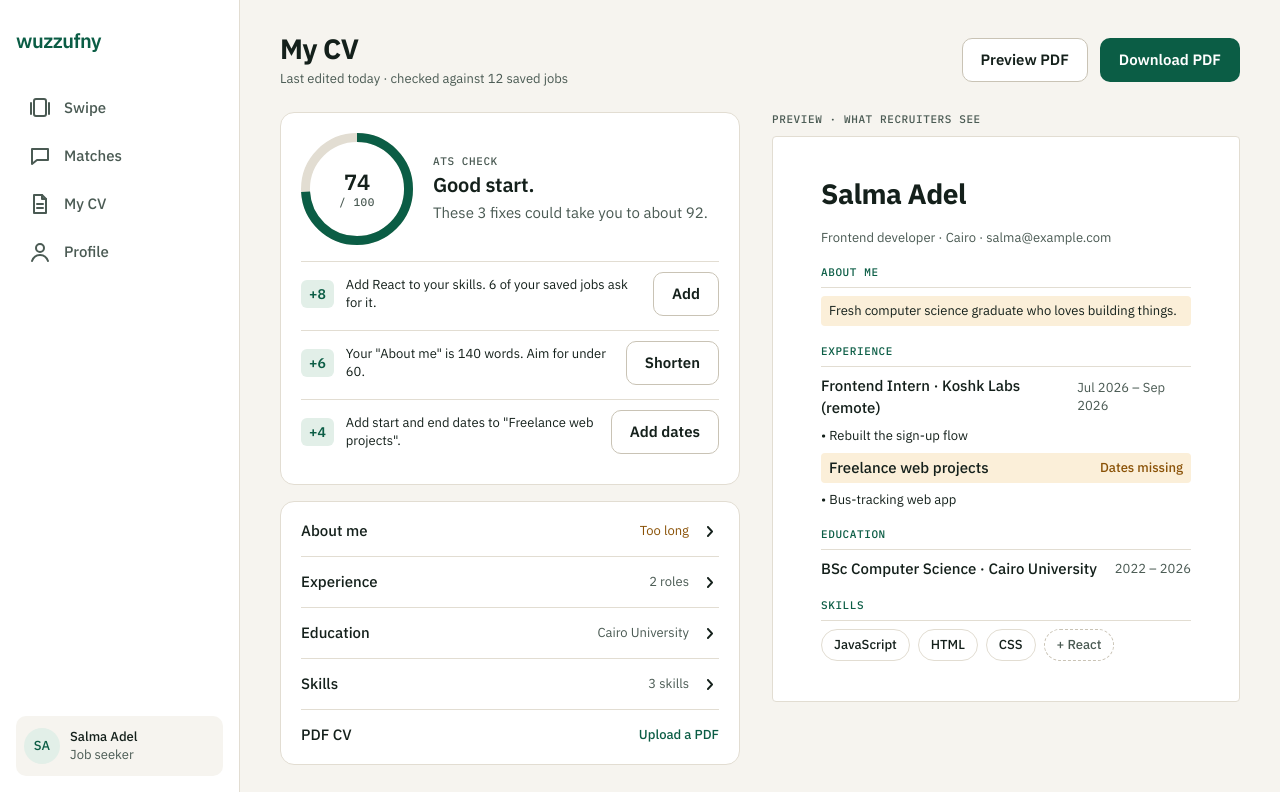
Test case: H6 My CV › "Add dates" opens the experience form, and saving sends the whole section
The image size is (1280, 792).
Click the button "Add dates" at point(665, 432), box [611,410,719,454]
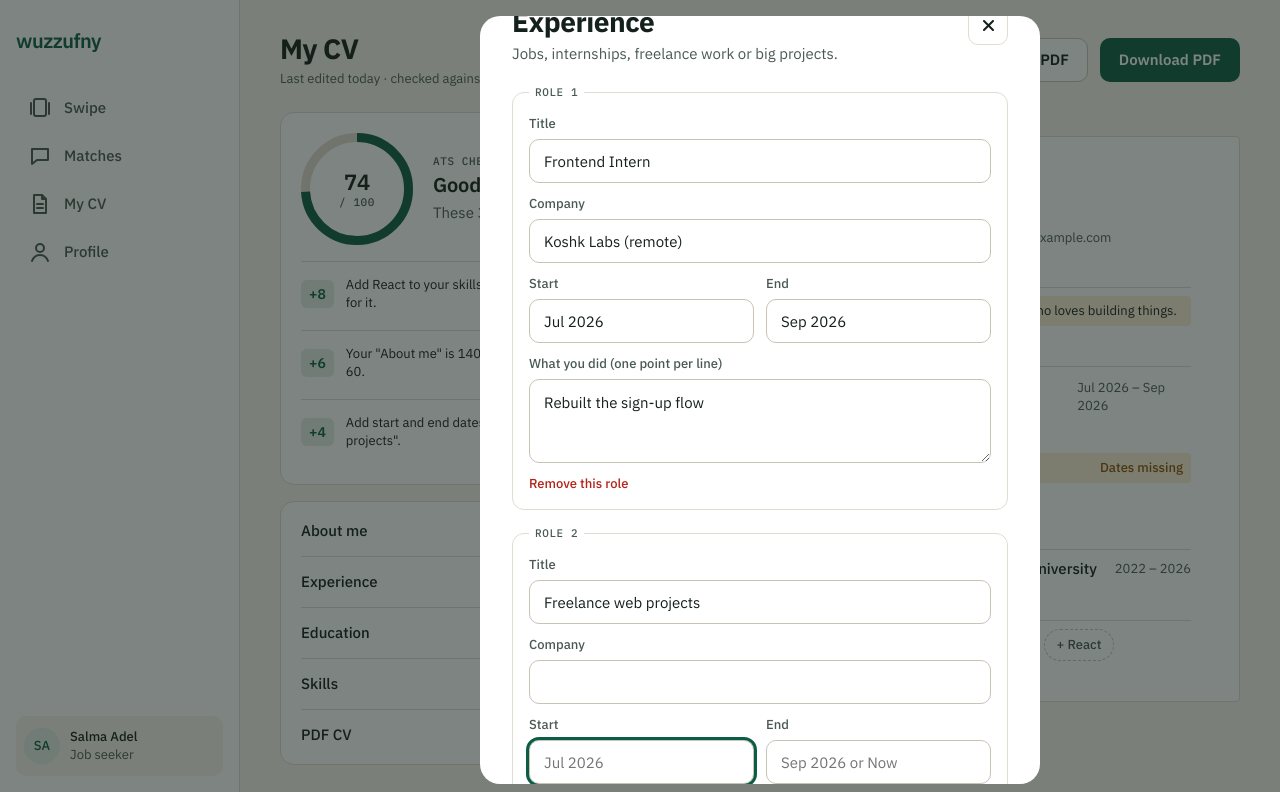
Type "Jan 2026" into the 2nd field labelled "Start" at point(642, 762), box [529,740,754,784]
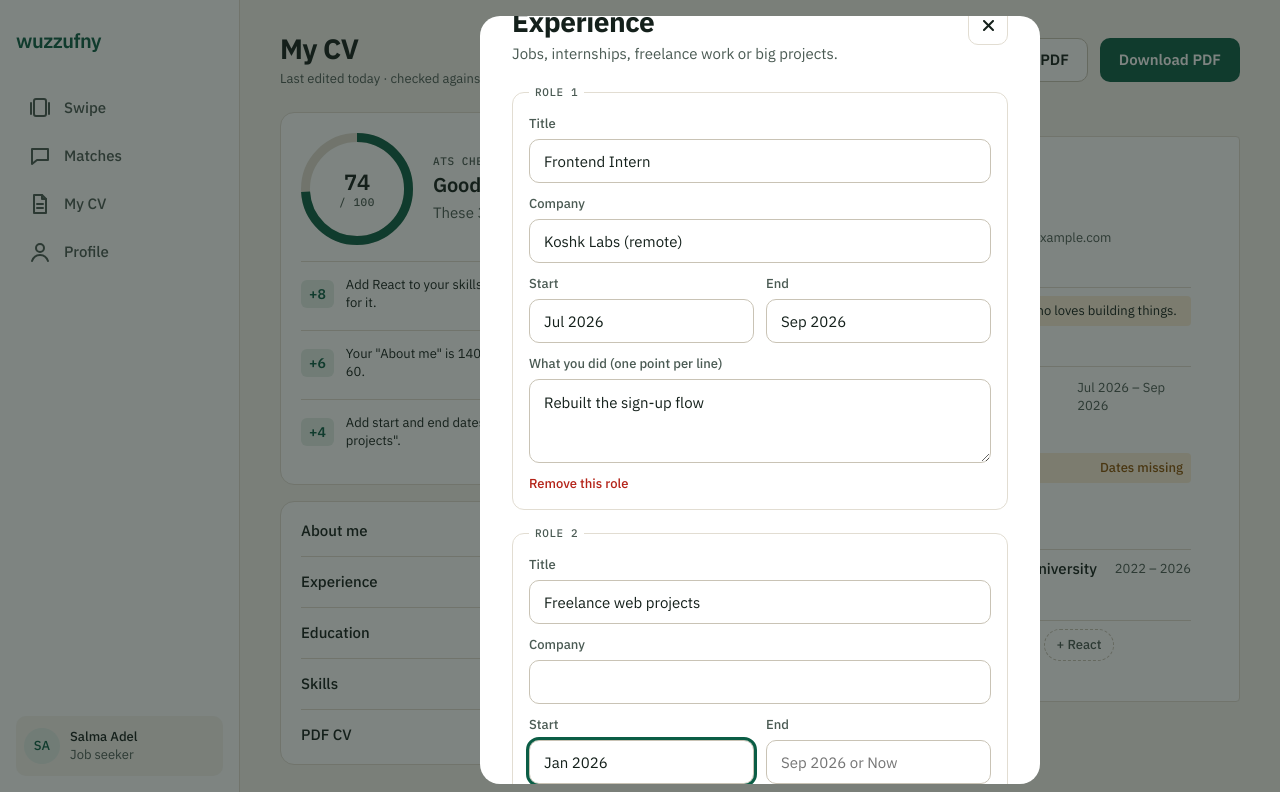
Type "Jun 2026" into the 2nd field labelled "End" at point(878, 762), box [766,740,991,784]
(page scrolled)
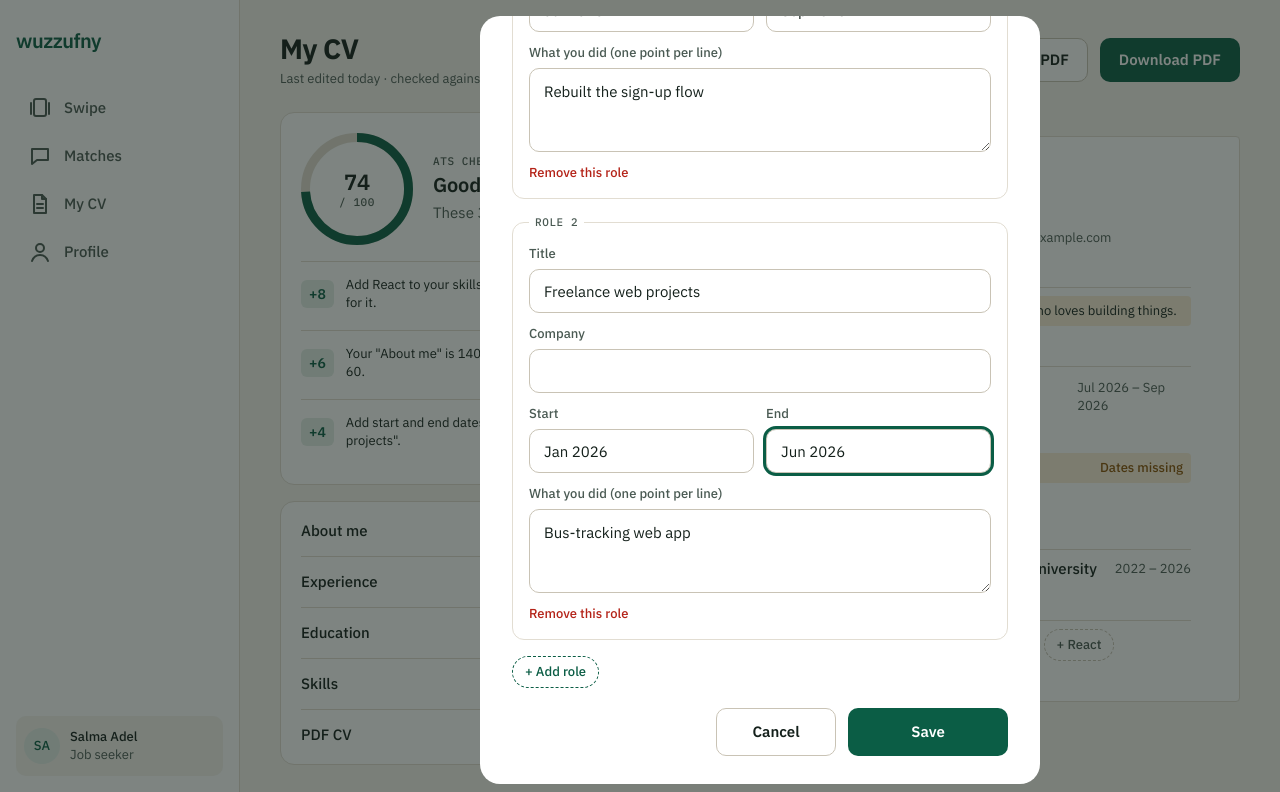
Click the button "Save" at point(928, 732), box [848,708,1008,756]
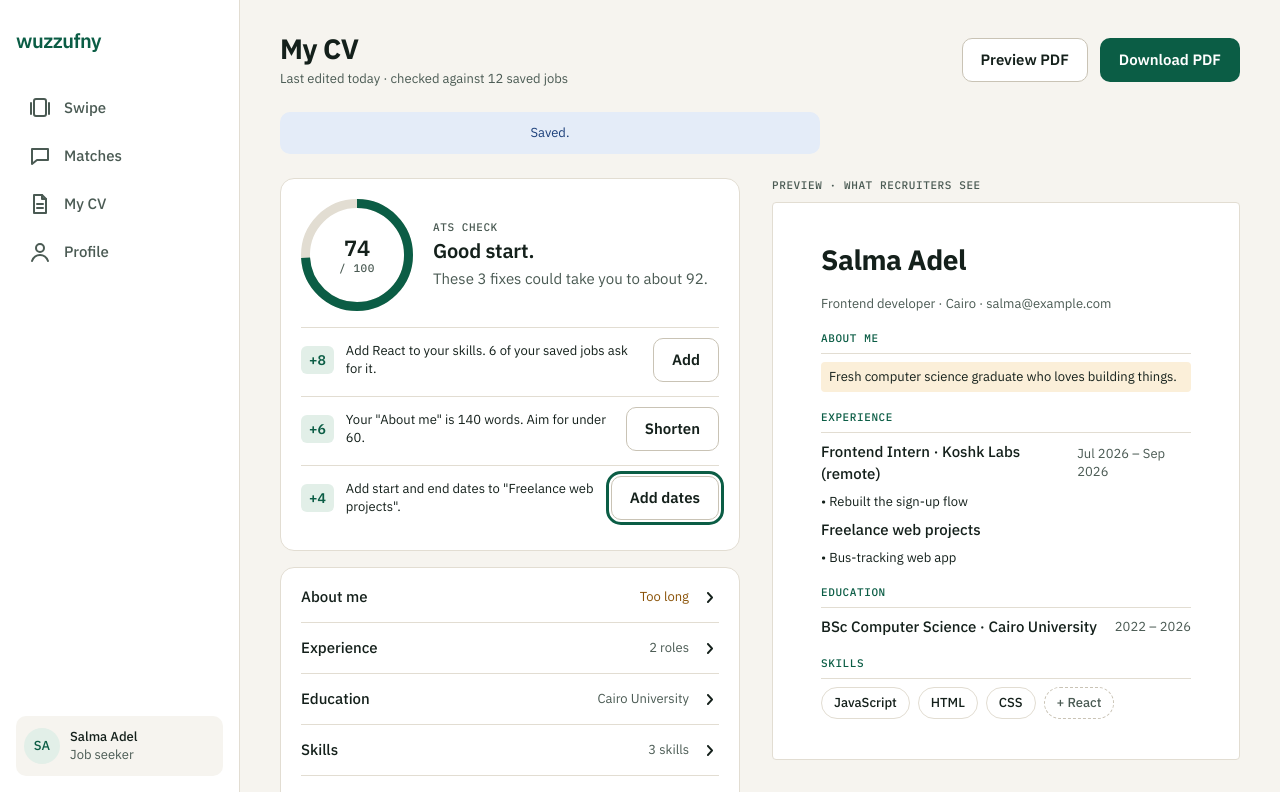
Expected: the dialog is gone
